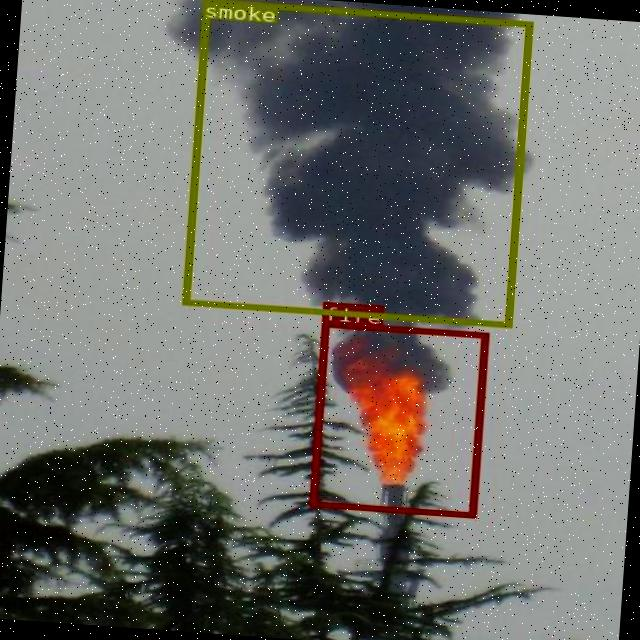fire: (308, 320, 487, 516)
smoke: (181, 0, 531, 326)
